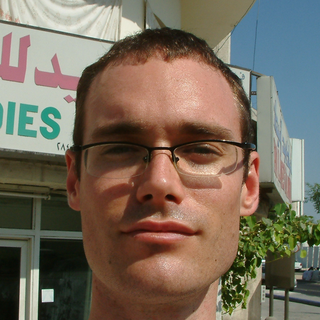eye: (180, 138, 228, 165), (96, 142, 145, 161)
